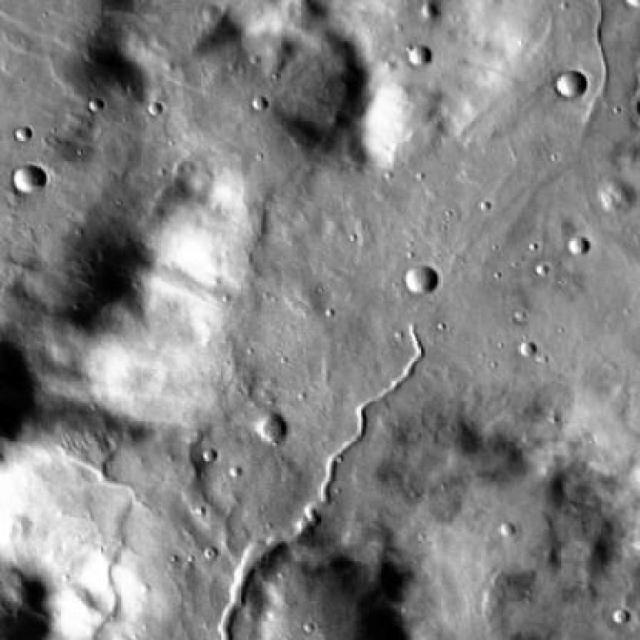crater: (594, 182, 632, 215), (10, 164, 44, 193), (407, 266, 438, 294), (554, 71, 586, 97), (252, 414, 283, 440), (614, 0, 640, 18), (408, 48, 428, 66), (567, 240, 585, 255), (635, 98, 640, 119)
